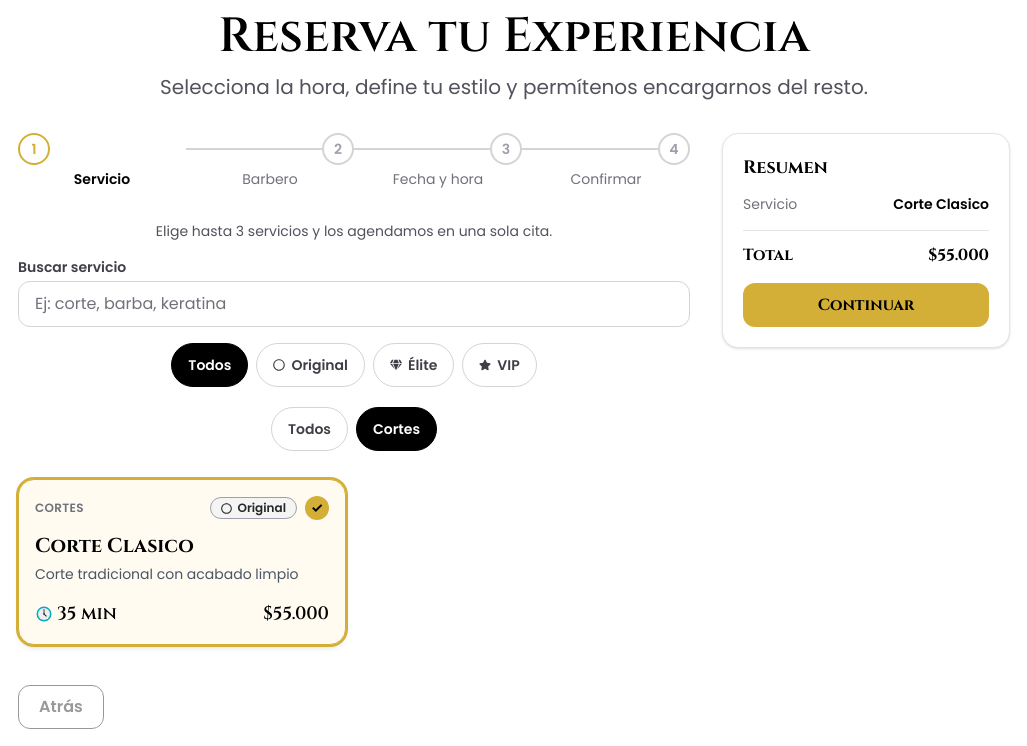
Scenario: ReservaCorte — contenedor y navegación por pasos › "Atrás" vuelve al paso anterior sin perder la selección de servicio
Expected: the button "Corte Clasico" is shown, [18,479,346,645]
What coordinates should you click on to do the following:
click the button "Continuar"
I would click on:
 (866, 305)
Its box is [743,283,989,327].
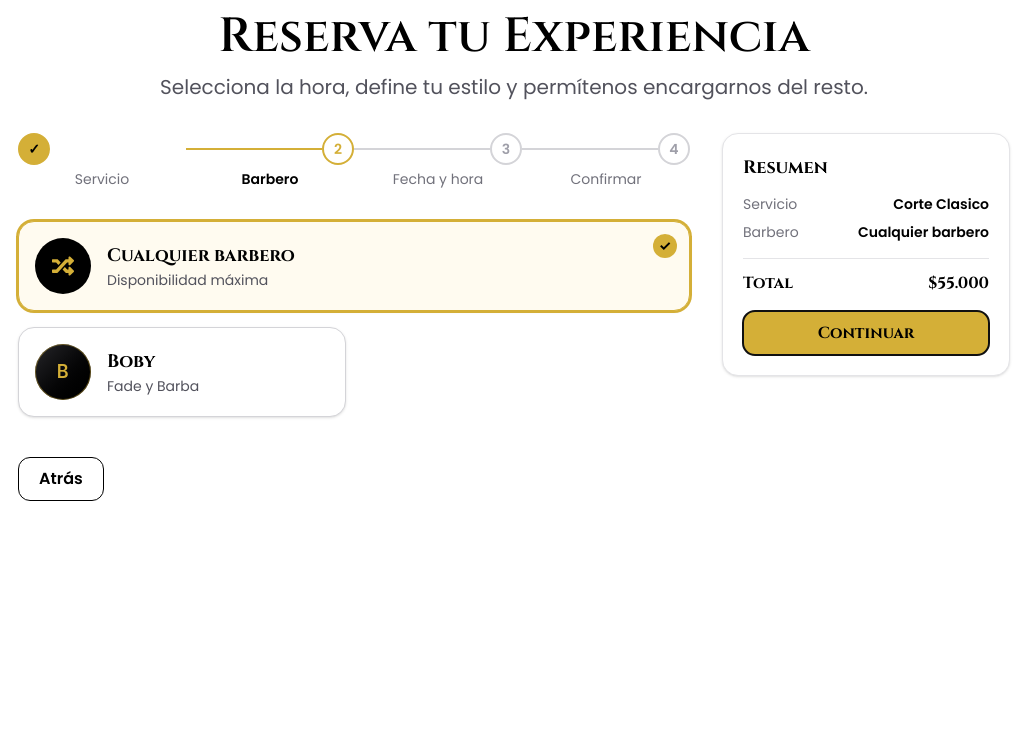
Expected: the heading "Cualquier barbero" is shown, [107,242,295,270]
What coordinates should you click on to do the following:
click the button "Atrás"
I would click on:
 (61, 479)
Its box is [18,457,104,501].
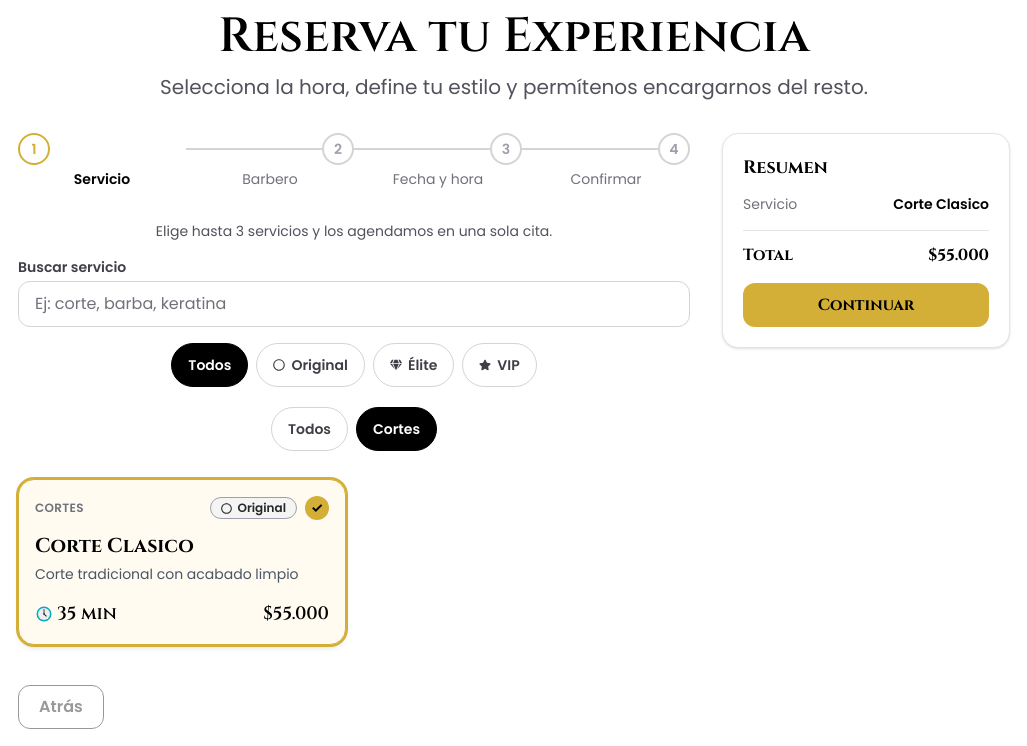
Expected: the button "Corte Clasico" is shown, [18,479,346,645]
